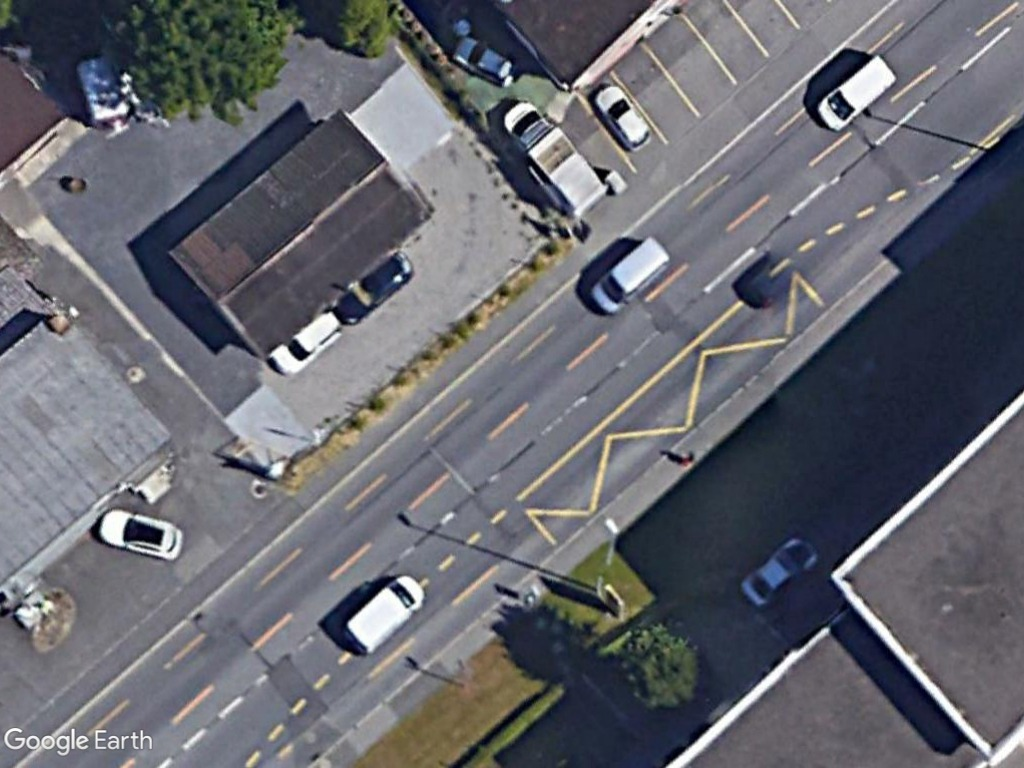car: (739, 534, 820, 609), (96, 506, 185, 564), (590, 84, 653, 152), (447, 33, 519, 86)
van: (338, 570, 426, 659), (588, 235, 672, 319), (814, 54, 898, 134)
